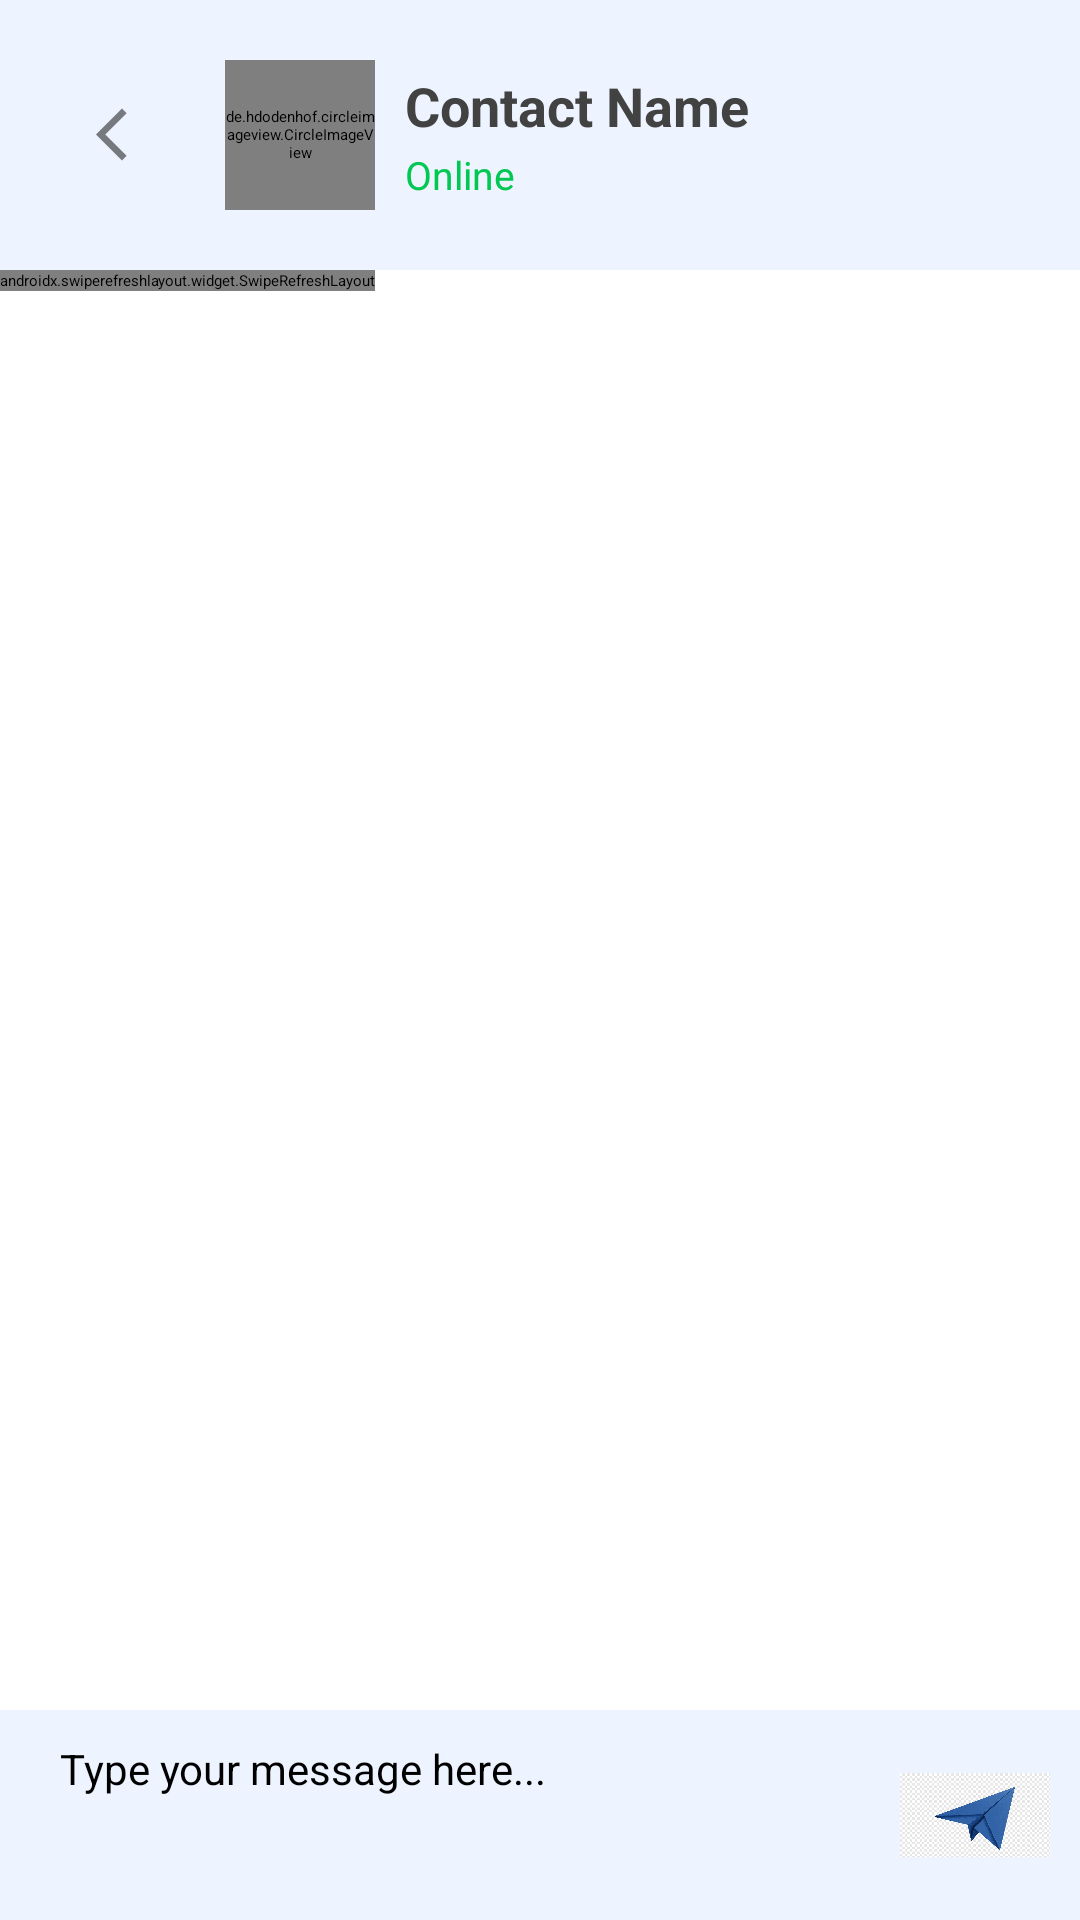

Screen size 1080px×1920px. Icon name, then its center in pixels as point (x, y):
back: point (111, 134)
send: point (975, 1815)
